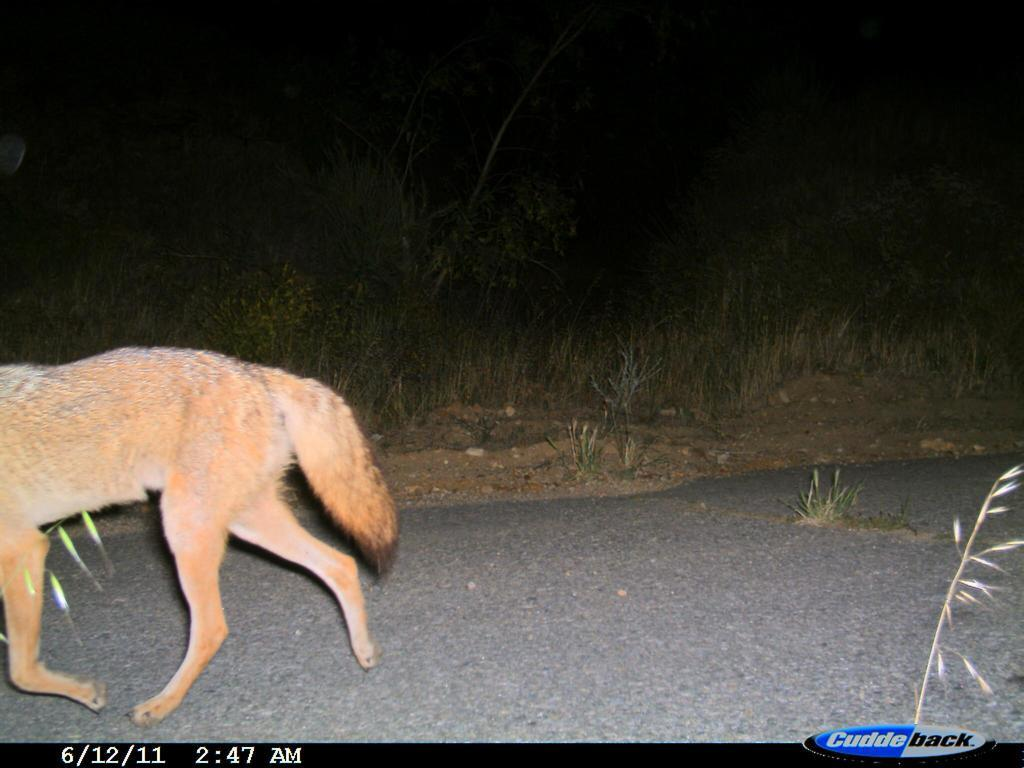coyote: (2, 276, 417, 722)
